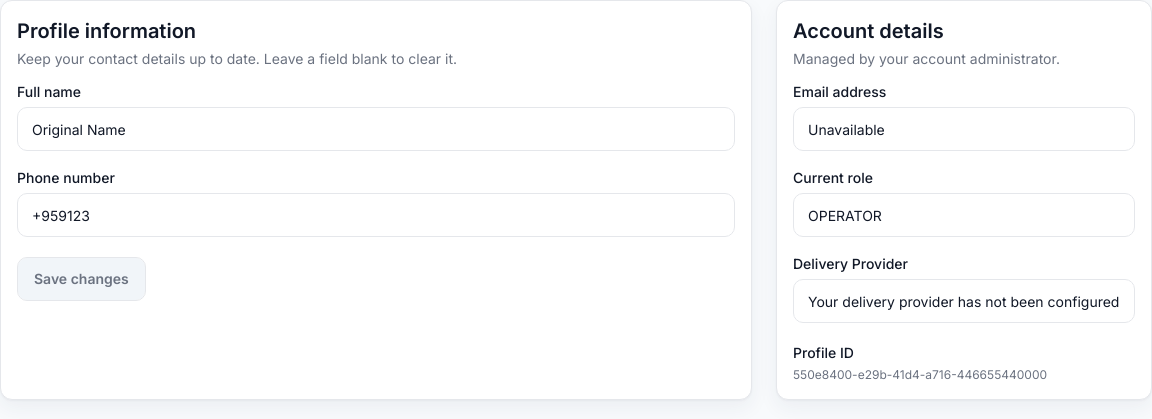
keeps form values and shows safe update failure feedback
Type " updated" into the field labelled "Full name". click: (376, 129)
box: [17, 107, 735, 151]
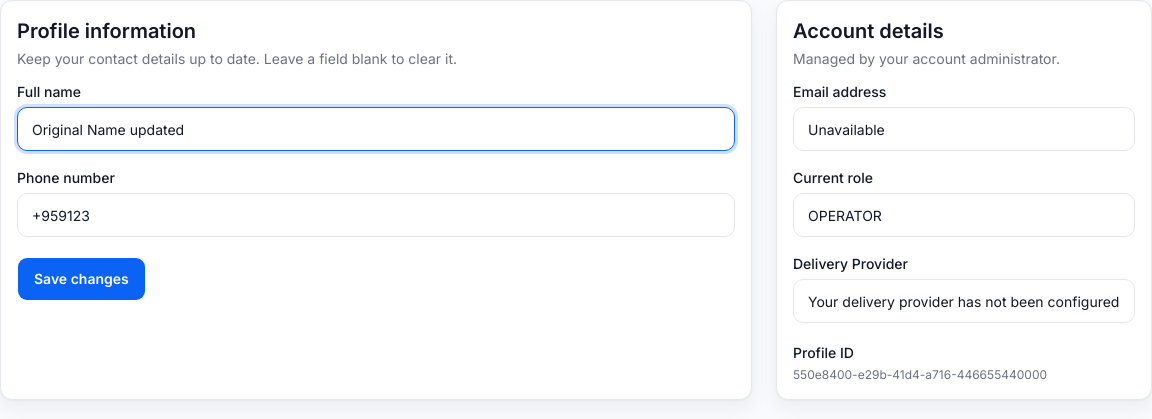
Click the button "Save changes". click: (81, 279)
box: [17, 257, 146, 301]
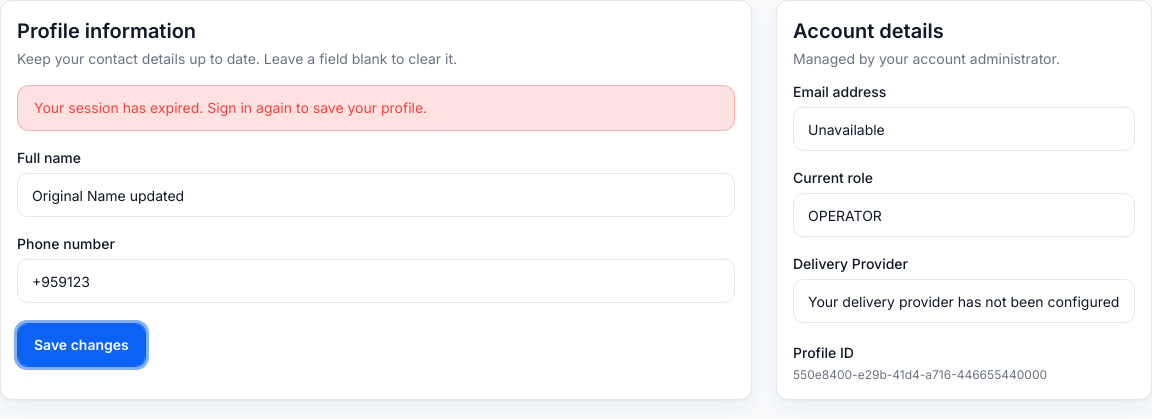
Expected: the field labelled "Full name" holds "Original Name updated", [17, 173, 735, 217]
Expected: the text "Your session has expired" is shown, [34, 99, 427, 116]
